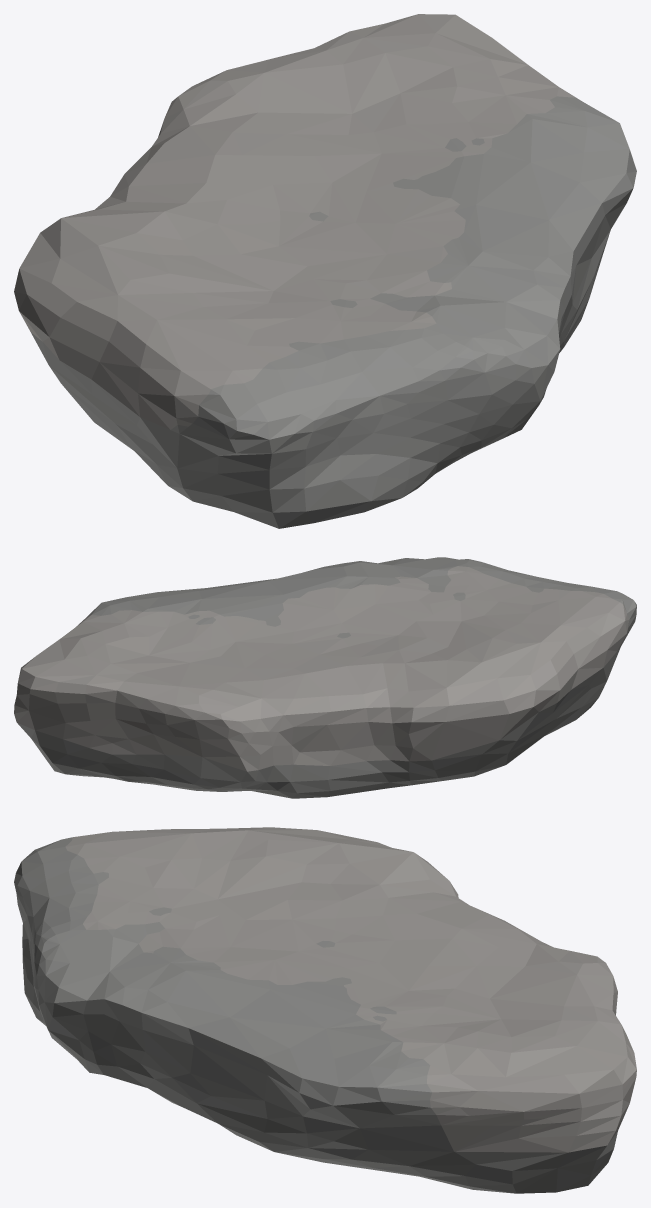
The model's file is Cavern_Floor_Border_Edge-03.fbx.
3 views of the same model, one above another, from view 1: azimuth 30°, elevation 25°; view 2: azimuth 150°, elevation 25°; view 3: azimuth 270°, elevation 25° (orthographic). The views are drawn at different scales.
Parts seen in each view (by area): view 1: Cavern_Floor_Border_Edge-03; view 2: Cavern_Floor_Border_Edge-03; view 3: Cavern_Floor_Border_Edge-03.
Boxes of the visible parts, <box> form: Cavern_Floor_Border_Edge-03: <box>14,14,636,528</box>; Cavern_Floor_Border_Edge-03: <box>14,557,636,798</box>; Cavern_Floor_Border_Edge-03: <box>14,827,636,1193</box>.
Size of the model in its own units: 1867 by 508 by 1911.
1 material, 1 textured.
